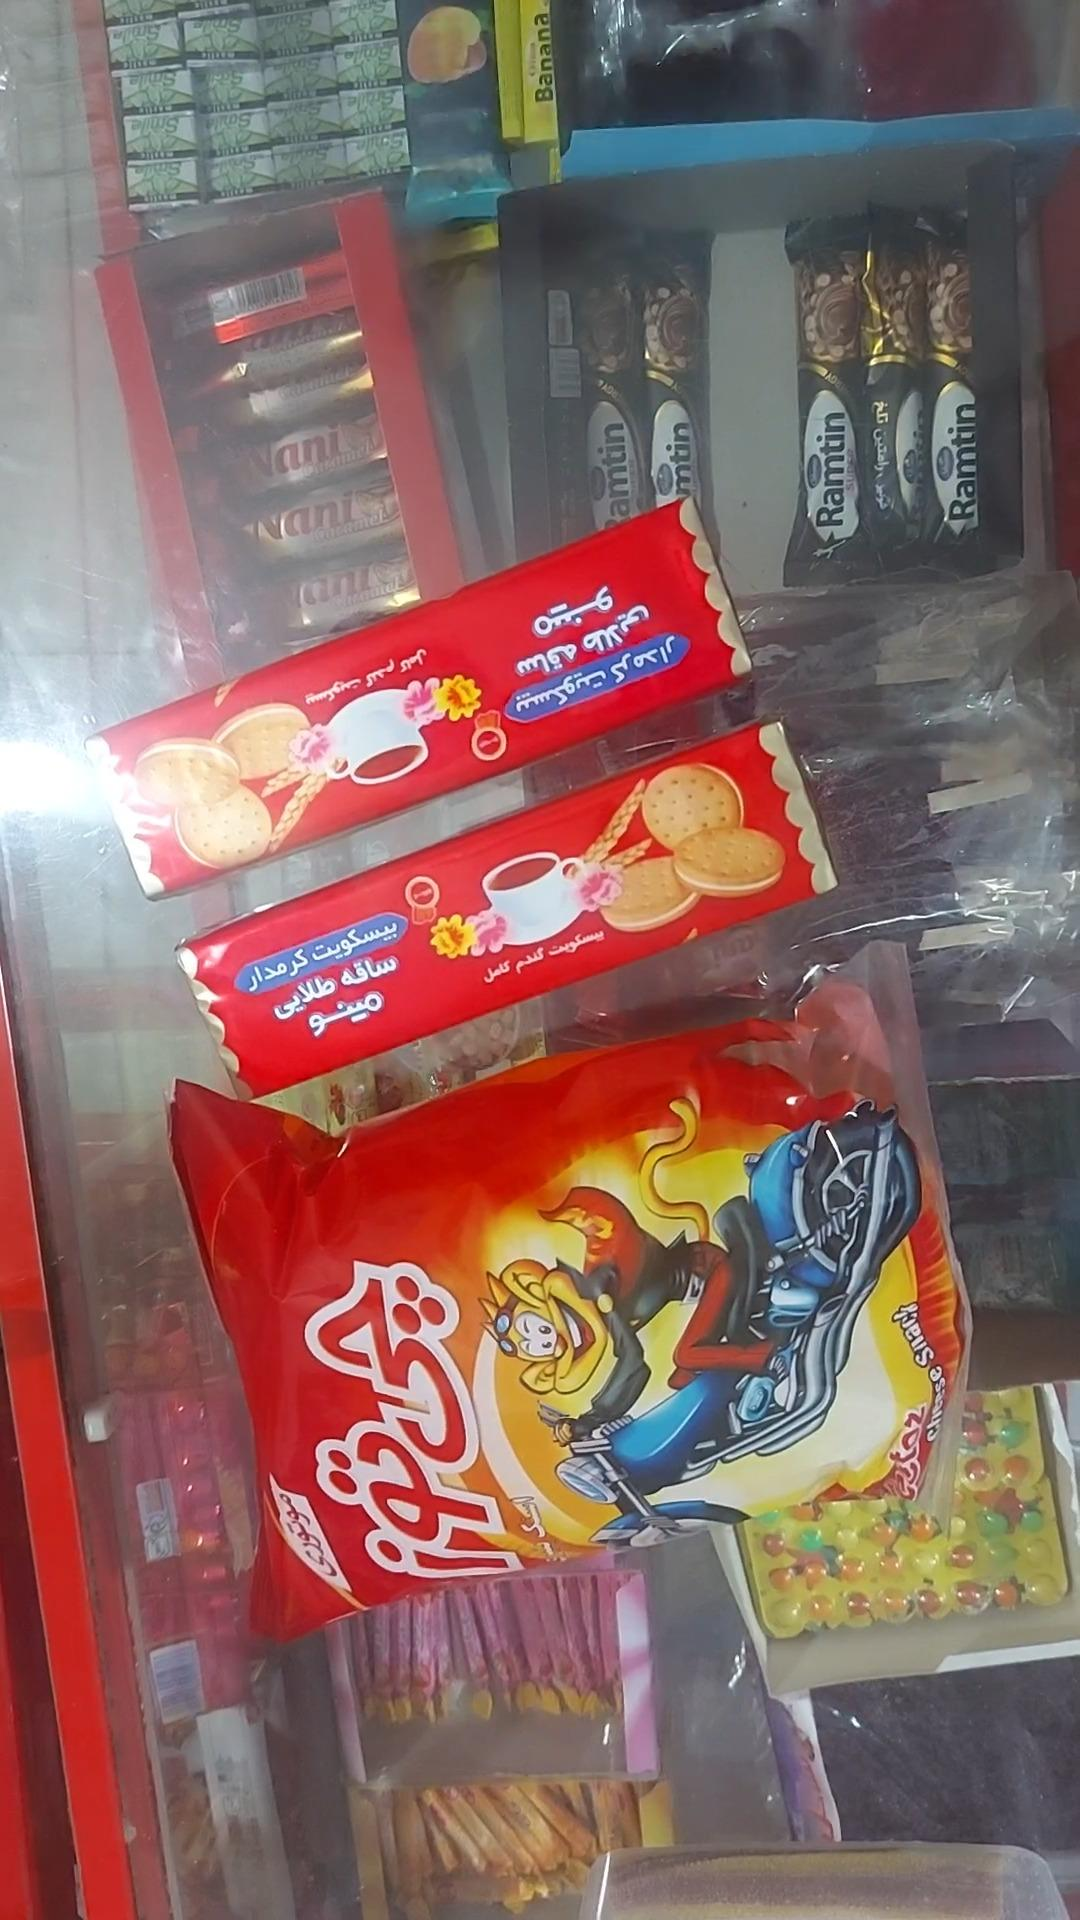Cheetoz snack 90g: (169, 943, 971, 1646)
Minoo cream biscuit: (99, 500, 753, 897), (175, 723, 837, 1100)
